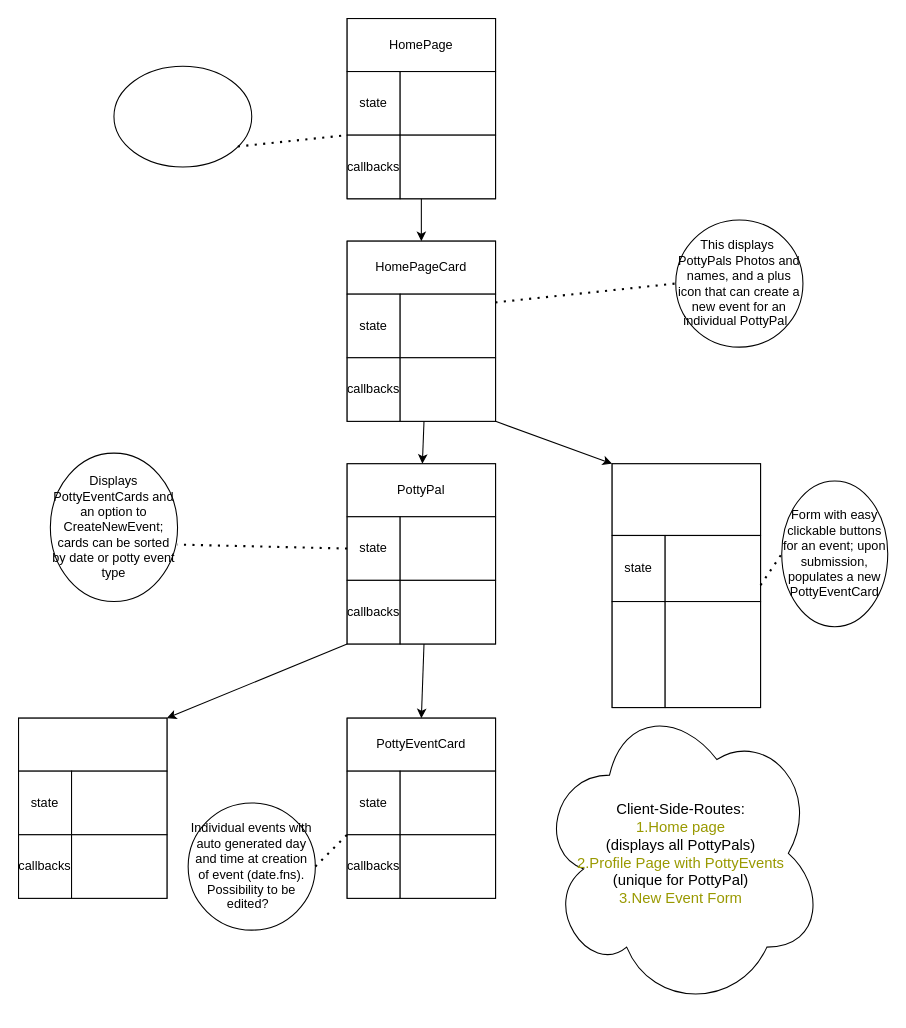
Some shapes in this 906 by 1028 pixel diagram are drawn without their labels. Here are the shapes that lost their labels. From the top down, the centre of each, then its label:
At point 182,116: "Not entirely sure if this component is necessary.".
At point 686,499: "CreateNewEvent".
At point 638,654: "events callbacks".
At point 92,744: "Sort".
